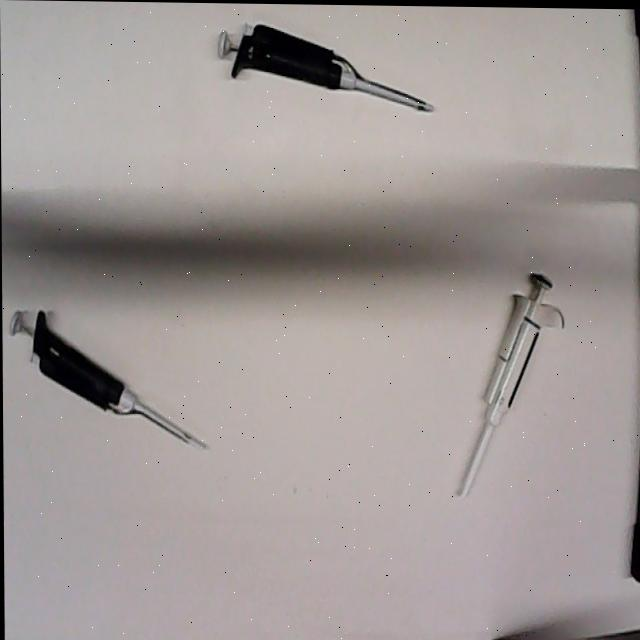Single Channel Pipettor: (9, 304, 215, 454), (454, 258, 573, 501), (211, 14, 443, 124)
